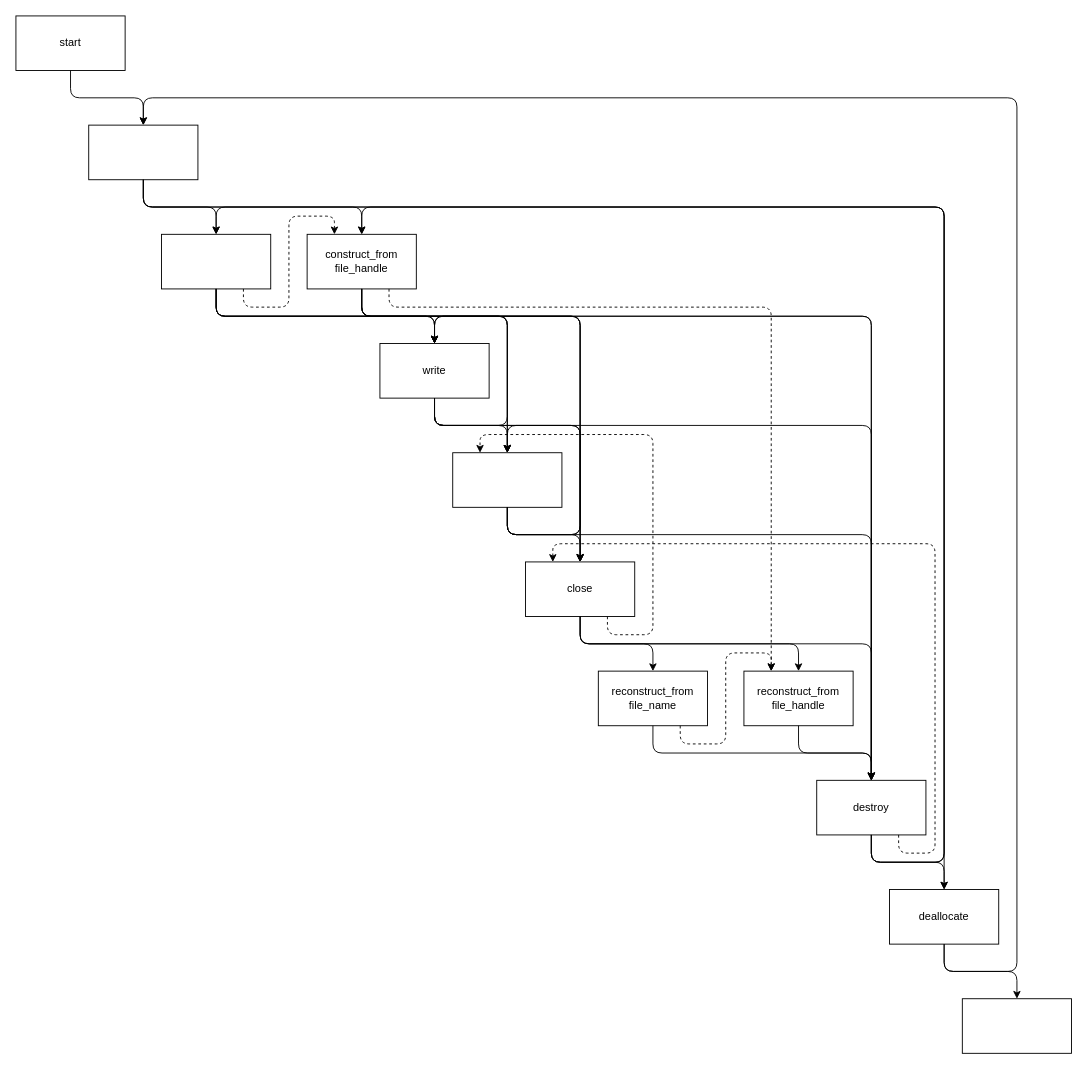
The diagram is 1087 pixels wide and 1069 high, and some of its shapes have lost their labels. The centre of each missing label's shape, as x and y in pixels:
allocate: the point at 143,152
construct_from file_name: the point at 216,261
end: the point at 1016,1025
submit_write: the point at 507,479
